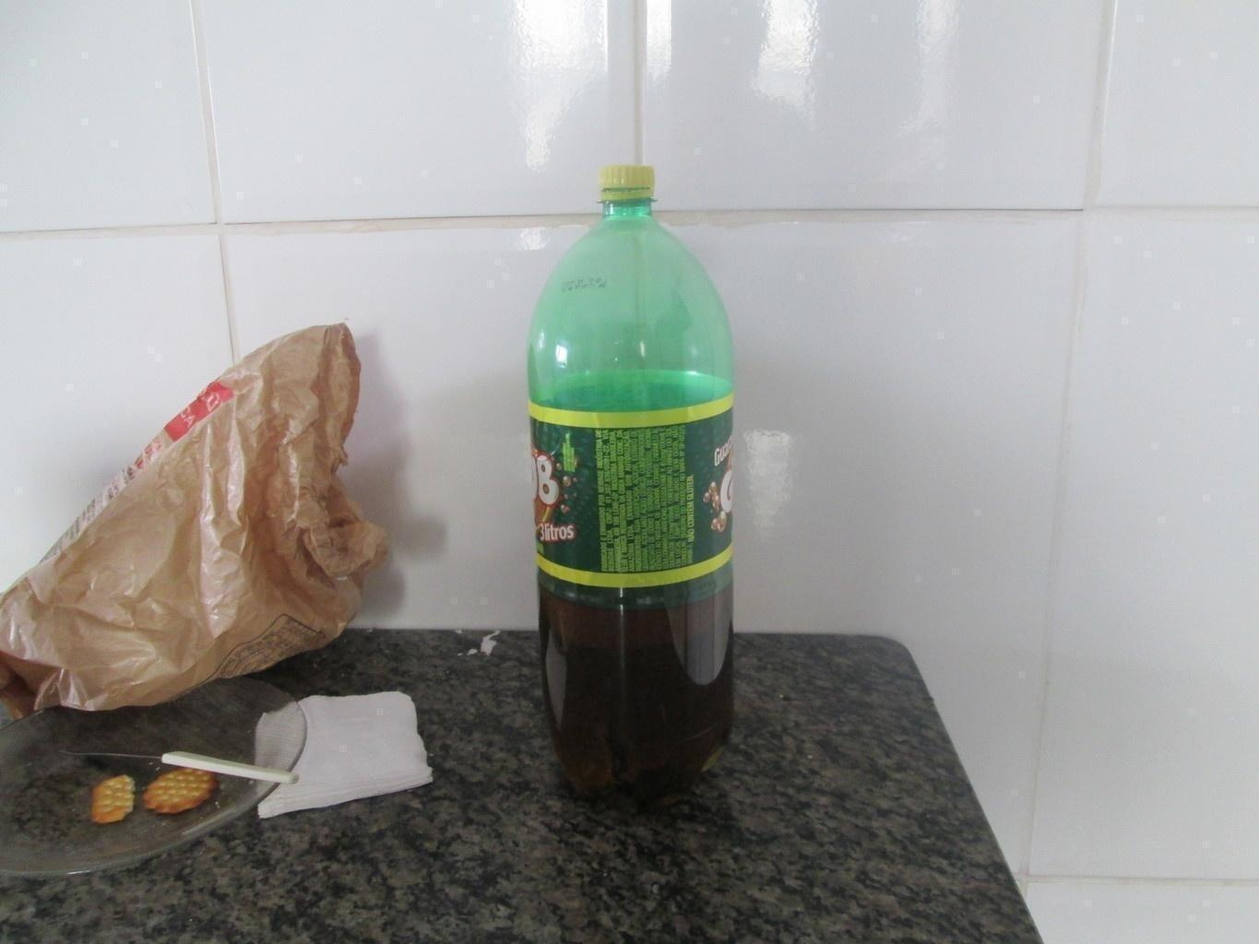bottle-plastic: (523, 162, 744, 808)
